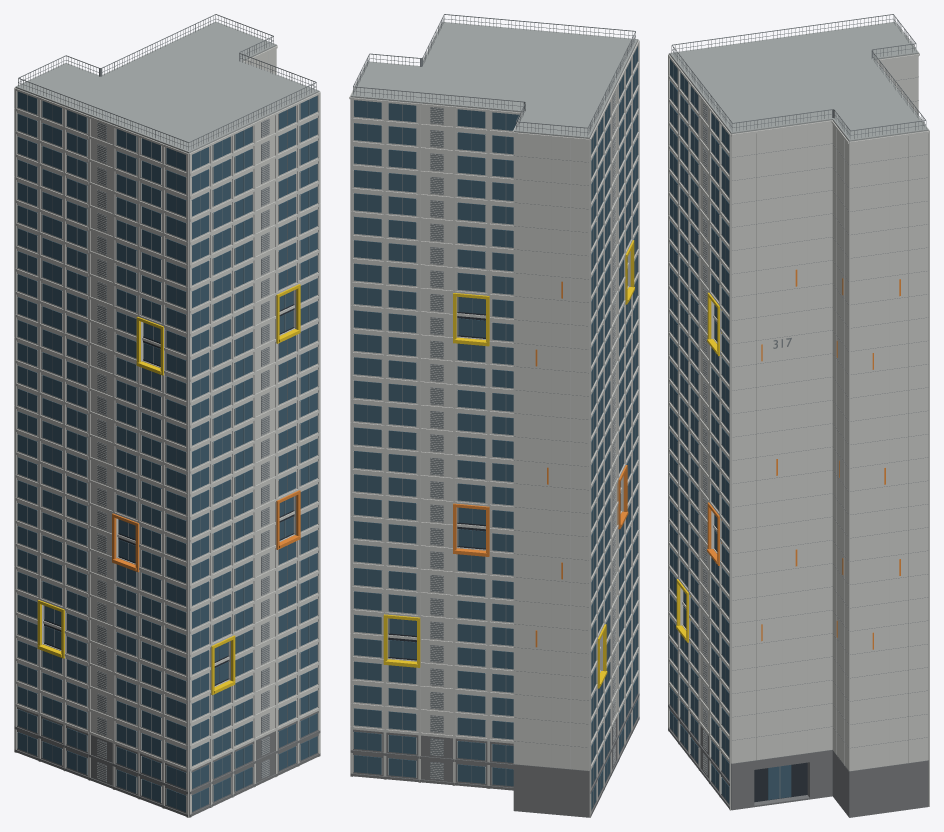
Rendered from bespoke-songpa-helio-city-317.glb.
3 renders of one model, left to right at view 1: azimuth 30°, elevation 25°; view 2: azimuth 150°, elevation 25°; view 3: azimuth 270°, elevation 25°, orthographic. The views are drawn at different scales.
Visible parts, largest first — view 1: Helio317_editable_Helio317_dark_blue_grey_glazing, Helio317_editable_Helio317_white_slab_frames, Helio317_editable_Helio317_grey_service_grille, Helio317_editable_Helio317_low_roof_deck, Helio317_editable_Helio317_dark_grey_twofloor_base, Helio317_editable_Helio317_blankwall_grey_panels, Helio317_editable_Helio317_yellow_projecting_rectangular_fra, Helio317_editable_Helio317_orange_narrow_accent, Helio317_editable_Helio317_deep_shaded_frame_recess; view 2: Helio317_editable_Helio317_white_slab_frames, Helio317_editable_Helio317_dark_blue_grey_glazing, Helio317_editable_Helio317_low_roof_deck, Helio317_editable_Helio317_grey_service_grille, Helio317_editable_Helio317_dark_grey_twofloor_base, Helio317_editable_Helio317_blankwall_grey_panels, Helio317_editable_Helio317_yellow_projecting_rectangular_fra, Helio317_editable_Helio317_orange_narrow_accent, Helio317_editable_Helio317_deep_shaded_frame_recess; view 3: Helio317_editable_Helio317_white_slab_frames, Helio317_editable_Helio317_dark_blue_grey_glazing, Helio317_editable_Helio317_low_roof_deck, Helio317_editable_Helio317_grey_service_grille, Helio317_editable_Helio317_dark_grey_twofloor_base, Helio317_editable_Helio317_blankwall_grey_panels, Helio317_editable_Helio317_deep_shaded_frame_recess, Helio317_editable_Helio317_orange_narrow_accent, Helio317_editable_Helio317_yellow_projecting_rectangular_fra.
Part boxes in pixels (<box>): Helio317_editable_Helio317_dark_blue_grey_glazing: <box>17,91,317,811</box>; Helio317_editable_Helio317_white_slab_frames: <box>14,45,320,817</box>; Helio317_editable_Helio317_grey_service_grille: <box>18,14,316,808</box>; Helio317_editable_Helio317_low_roof_deck: <box>15,21,319,153</box>; Helio317_editable_Helio317_dark_grey_twofloor_base: <box>14,707,320,816</box>; Helio317_editable_Helio317_blankwall_grey_panels: <box>97,53,269,781</box>; Helio317_editable_Helio317_yellow_projecting_rectangular_fra: <box>37,284,300,695</box>; Helio317_editable_Helio317_orange_narrow_accent: <box>112,490,300,572</box>; Helio317_editable_Helio317_deep_shaded_frame_recess: <box>44,304,293,685</box>; Helio317_editable_Helio317_white_slab_frames: <box>349,23,639,817</box>; Helio317_editable_Helio317_dark_blue_grey_glazing: <box>354,46,637,809</box>; Helio317_editable_Helio317_low_roof_deck: <box>350,22,638,138</box>; Helio317_editable_Helio317_grey_service_grille: <box>353,14,635,806</box>; Helio317_editable_Helio317_dark_grey_twofloor_base: <box>350,689,639,817</box>; Helio317_editable_Helio317_blankwall_grey_panels: <box>430,91,615,779</box>; Helio317_editable_Helio317_yellow_projecting_rectangular_fra: <box>383,240,634,688</box>; Helio317_editable_Helio317_orange_narrow_accent: <box>453,281,628,647</box>; Helio317_editable_Helio317_deep_shaded_frame_recess: <box>388,297,485,660</box>; Helio317_editable_Helio317_white_slab_frames: <box>668,23,929,810</box>; Helio317_editable_Helio317_dark_blue_grey_glazing: <box>670,59,791,803</box>; Helio317_editable_Helio317_low_roof_deck: <box>669,22,928,141</box>; Helio317_editable_Helio317_grey_service_grille: <box>671,14,927,799</box>; Helio317_editable_Helio317_dark_grey_twofloor_base: <box>668,686,928,817</box>; Helio317_editable_Helio317_blankwall_grey_panels: <box>703,61,908,774</box>; Helio317_editable_Helio317_deep_shaded_frame_recess: <box>683,314,807,802</box>; Helio317_editable_Helio317_orange_narrow_accent: <box>707,269,900,649</box>; Helio317_editable_Helio317_yellow_projecting_rectangular_fra: <box>676,292,721,642</box>.
Size of the model in its own units: 30.79 by 82.2 by 28.43.
